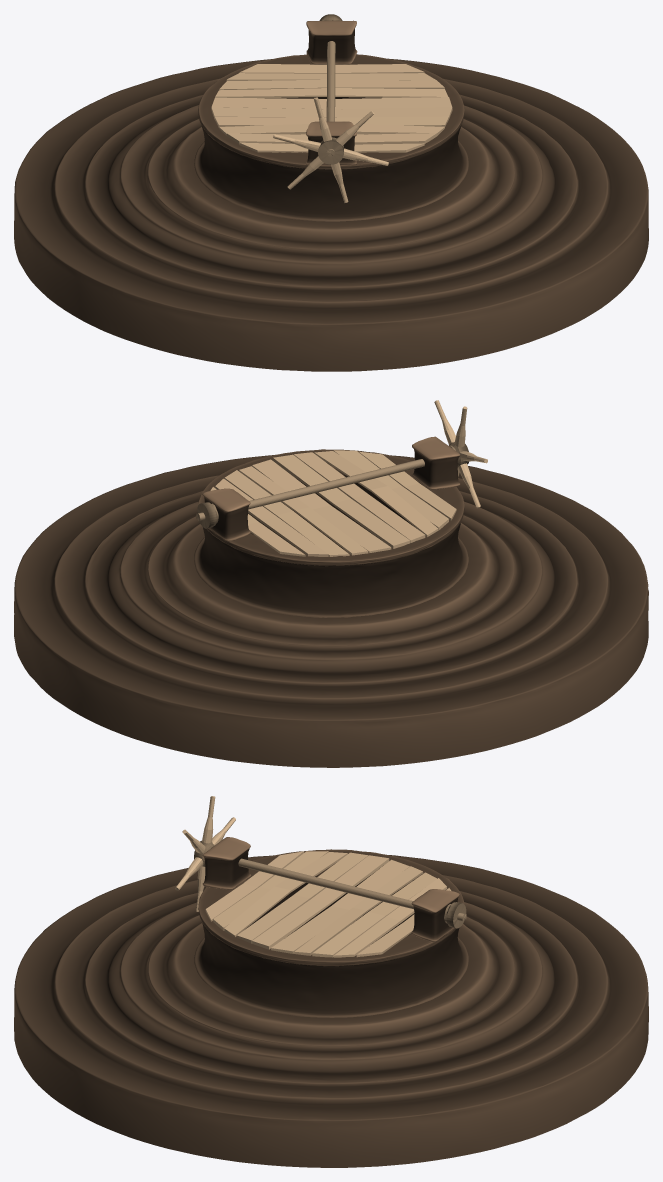
The model's file is marketwell.fbx.
3 renders of one model, top to bottom at view 1: azimuth 30°, elevation 25°; view 2: azimuth 150°, elevation 25°; view 3: azimuth 270°, elevation 25°, orthographic.
Parts seen in each view (by area): view 1: marketwell|GEO-marketwell_L_market_props.blend|Dupli|, marketwell|GEO-barrel.007_L_market_props.blend|Dupli|6, marketwell|Mesh.010_L_market_props.blend|Dupli|5, marketwell|GEO-Cart.003_L_market_props.blend|Dupli|1; view 2: marketwell|GEO-marketwell_L_market_props.blend|Dupli|, marketwell|GEO-barrel.007_L_market_props.blend|Dupli|6, marketwell|GEO-Cart.003_L_market_props.blend|Dupli|1, marketwell|Mesh.010_L_market_props.blend|Dupli|5; view 3: marketwell|GEO-marketwell_L_market_props.blend|Dupli|, marketwell|GEO-barrel.007_L_market_props.blend|Dupli|6, marketwell|GEO-Cart.003_L_market_props.blend|Dupli|1, marketwell|Mesh.010_L_market_props.blend|Dupli|5.
Boxes of the visible parts, x1=… form: marketwell|GEO-marketwell_L_market_props.blend|Dupli|: x1=14, y1=20, x2=648, y2=371; marketwell|GEO-barrel.007_L_market_props.blend|Dupli|6: x1=211, y1=64, x2=452, y2=152; marketwell|Mesh.010_L_market_props.blend|Dupli|5: x1=273, y1=97, x2=388, y2=202; marketwell|GEO-Cart.003_L_market_props.blend|Dupli|1: x1=326, y1=41, x2=335, y2=156; marketwell|GEO-marketwell_L_market_props.blend|Dupli|: x1=14, y1=436, x2=648, y2=767; marketwell|GEO-barrel.007_L_market_props.blend|Dupli|6: x1=210, y1=450, x2=456, y2=556; marketwell|GEO-Cart.003_L_market_props.blend|Dupli|1: x1=196, y1=459, x2=424, y2=521; marketwell|Mesh.010_L_market_props.blend|Dupli|5: x1=434, y1=400, x2=487, y2=508; marketwell|GEO-marketwell_L_market_props.blend|Dupli|: x1=14, y1=837, x2=648, y2=1167; marketwell|GEO-barrel.007_L_market_props.blend|Dupli|6: x1=205, y1=851, x2=451, y2=957; marketwell|GEO-Cart.003_L_market_props.blend|Dupli|1: x1=238, y1=858, x2=466, y2=921; marketwell|Mesh.010_L_market_props.blend|Dupli|5: x1=175, y1=796, x2=235, y2=911.
Bounding box in the file's own units: 331 × 123 × 331.
